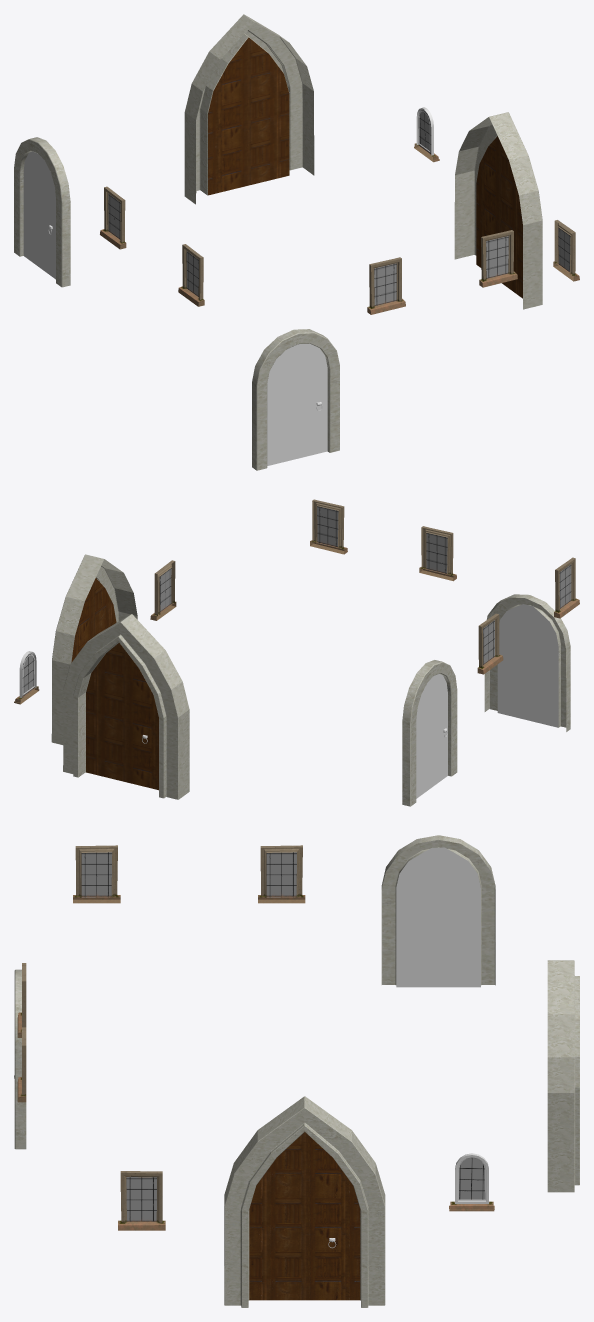
Rendered from GruasDoorWindows.fbx.
The picture shows the model from 3 angles, top to bottom: view 1: azimuth 30°, elevation 25°; view 2: azimuth 150°, elevation 25°; view 3: azimuth 270°, elevation 25°; orthographic projection. The views are drawn at different scales.
Visible parts, largest first — view 1: Door1.045, Door1.044, Door2.408, Door2.407, Window3.2069, Window3.179, Window1.160, Window1.161, Window3.2070, Window1.155; view 2: Door1.045, Door2.408, Door2.407, Door1.044, Window3.2069, Window3.179, Window1.161, Window1.160, Window3.2070, Window1.155; view 3: Door1.044, Door2.407, Door1.045, Window3.2070, Window1.161, Window1.160, Window1.155, Door2.408.
Boxes of the visible parts, box(x1,y1,x2,y2) form: Door1.045: box(184, 14, 314, 204); Door1.044: box(454, 112, 542, 309); Door2.408: box(252, 329, 339, 470); Door2.407: box(14, 137, 70, 287); Window3.2069: box(367, 257, 405, 314); Window3.179: box(479, 230, 517, 287); Window1.160: box(178, 244, 204, 306); Window1.161: box(100, 186, 126, 249); Window3.2070: box(553, 220, 579, 281); Window1.155: box(414, 107, 439, 162); Door1.045: box(63, 614, 189, 799); Door2.408: box(484, 594, 570, 731); Door2.407: box(402, 660, 457, 806); Door1.044: box(51, 554, 137, 744); Window3.2069: box(419, 526, 456, 581); Window3.179: box(310, 499, 347, 554); Window1.161: box(477, 613, 503, 674); Window1.160: box(554, 557, 579, 618); Window3.2070: box(150, 560, 176, 620); Window1.155: box(14, 651, 39, 704); Door1.044: box(224, 1096, 385, 1307); Door2.407: box(381, 835, 495, 987); Door1.045: box(547, 960, 579, 1192); Window3.2070: box(118, 1171, 165, 1230); Window1.161: box(258, 845, 305, 903); Window1.160: box(73, 845, 120, 903); Window1.155: box(449, 1153, 494, 1211); Door2.408: box(14, 969, 26, 1149).
Bounding box in the file's own units: 897 × 467 × 889.
